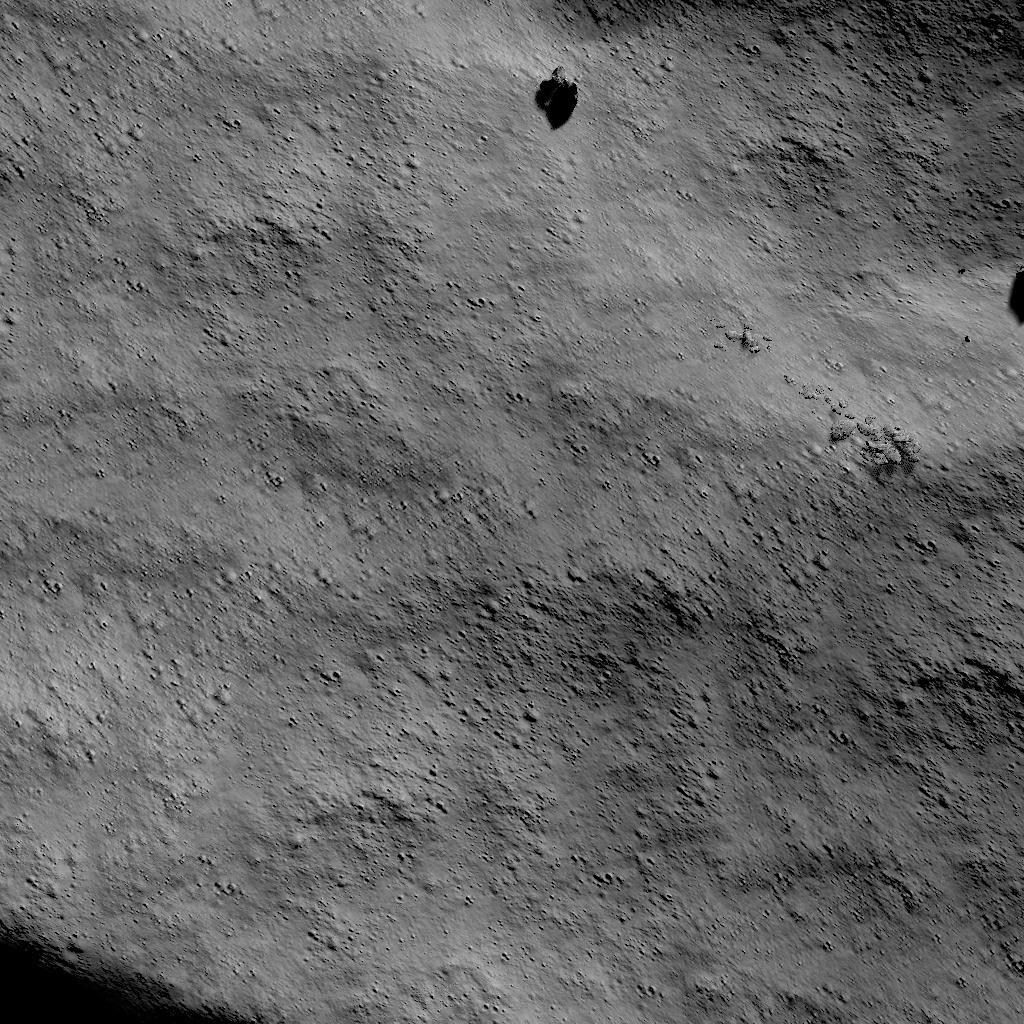Plan surface: (1, 0, 505, 897), (536, 363, 1024, 1019), (612, 0, 992, 352)
